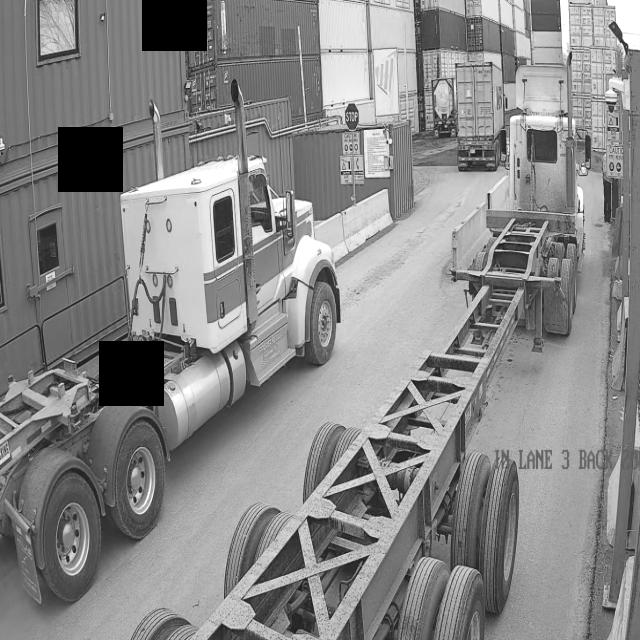truck_with_container: (455, 62, 507, 169)
truck_without_container: (131, 106, 590, 640), (0, 80, 340, 603)
